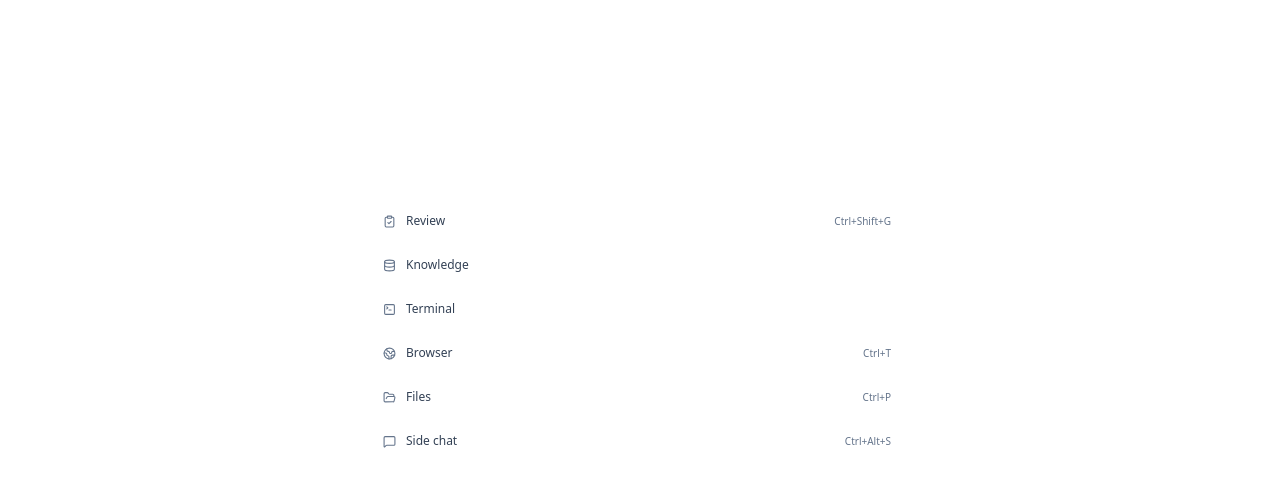
Test: workspace panel › renders the Codex-style launcher and opens a full panel view
Expected: the navigation bar named "Workspace panel launcher" is shown, [370,201,910,461]
Expected: the button "Terminal" is shown, [370,289,910,329]
Click the button "Review Ctrl+Shift+G": [426, 221] box [370,201,910,241]
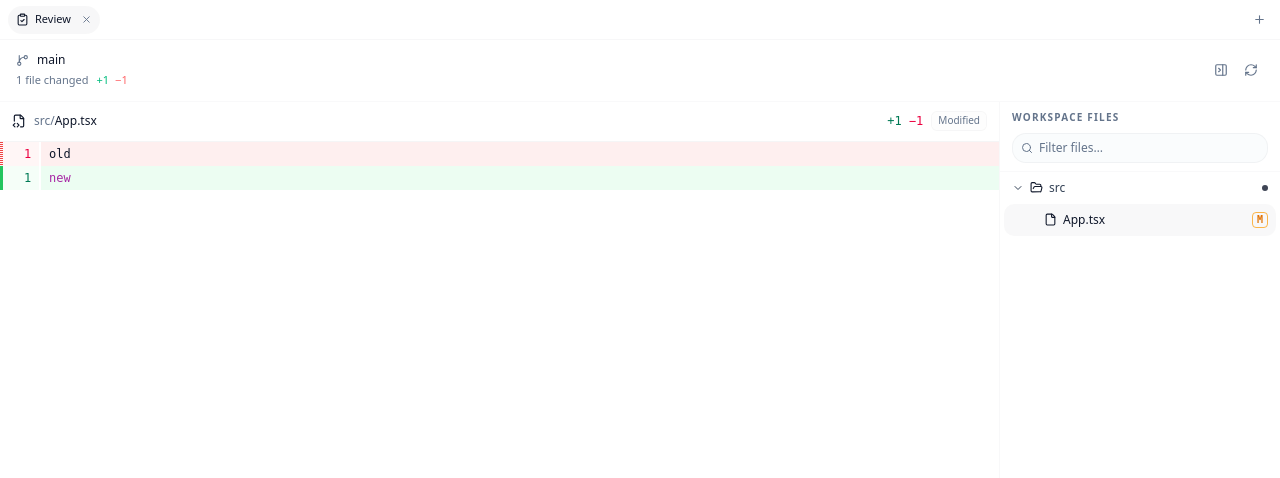
Now the text "1 file changed" is shown, box [16,72,128,88]
Now the button named "Close Review" is shown, box [77,10,96,29]
Now the element named "Diff for src/App.tsx" is shown, box [0,102,999,190]
